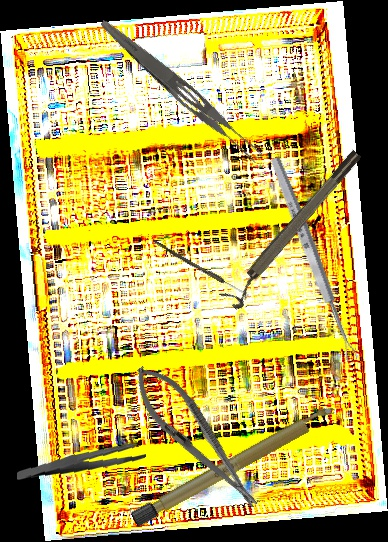Dressing Forceps: (93, 15, 267, 167), (16, 435, 147, 489)
Fixation Ring: (218, 147, 371, 312)
Needle Holder: (121, 354, 272, 521)
Scalpel Handle: (129, 401, 340, 529)
Surgical Spoon: (267, 155, 360, 363), (151, 239, 251, 298)
